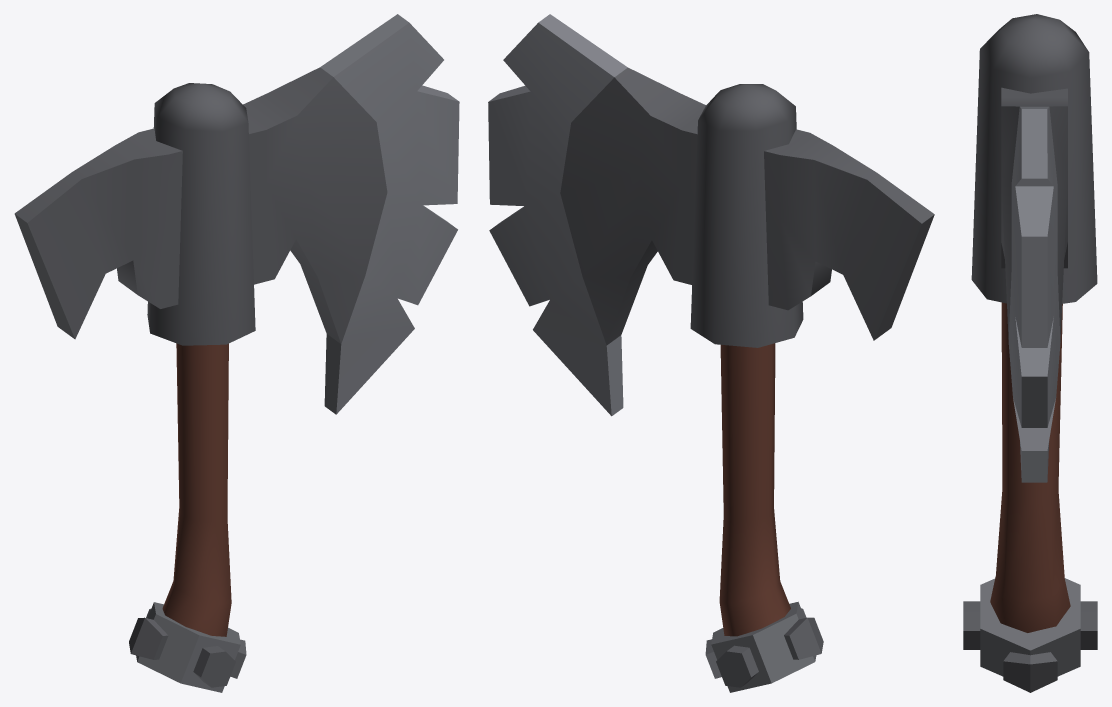
File: Axe_LHand_12.fbx
The picture shows the model from 3 angles, left to right: view 1: azimuth 30°, elevation 25°; view 2: azimuth 150°, elevation 25°; view 3: azimuth 270°, elevation 25°; orthographic projection. The views are drawn at different scales.
Visible parts, largest first — view 1: Axe_LHand_12; view 2: Axe_LHand_12; view 3: Axe_LHand_12.
Boxes of the visible parts, x1,y1,x2,y2 form: Axe_LHand_12: (14,14,459,692); Axe_LHand_12: (488,14,934,692); Axe_LHand_12: (963,14,1097,692).
Size of the model in its own units: 49.03 by 66.72 by 11.96.
